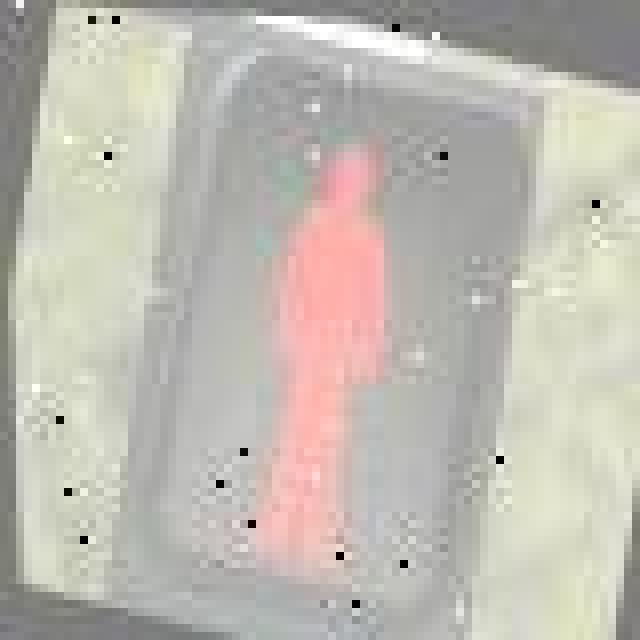redlight: (171, 36, 527, 640)
